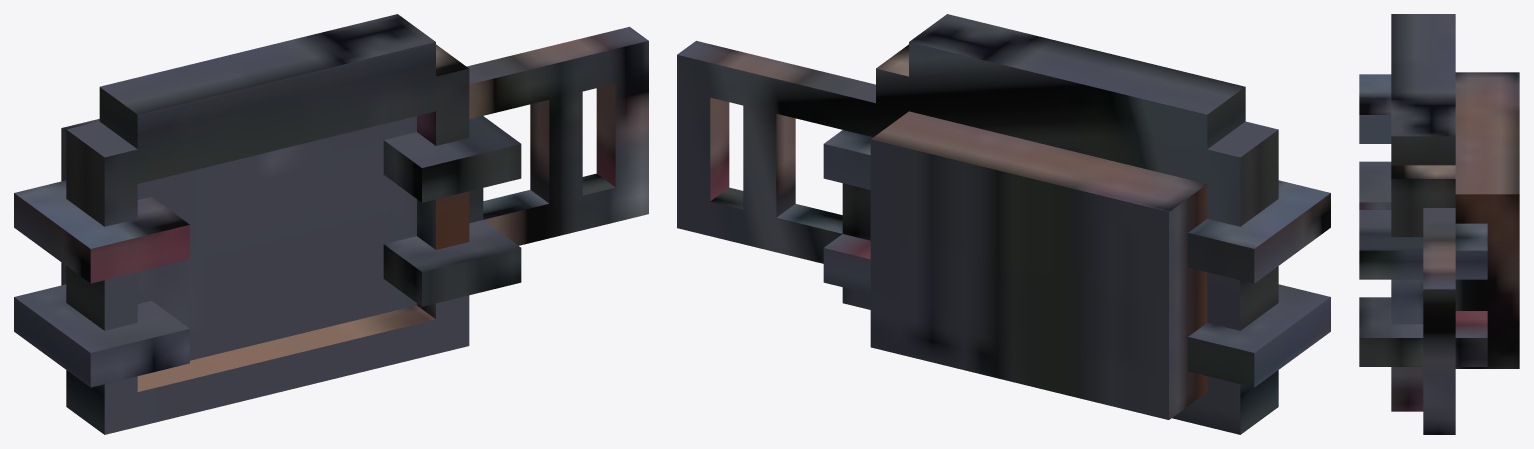
File: Advertising_7.glb
3 renders of one model, left to right at view 1: azimuth 30°, elevation 25°; view 2: azimuth 150°, elevation 25°; view 3: azimuth 270°, elevation 25°, orthographic. The views are drawn at different scales.
Parts seen in each view (by area): view 1: Advertising_7; view 2: Advertising_7; view 3: Advertising_7.
Boxes of the visible parts, x1,y1,x2,y2 form: Advertising_7: (14, 14, 648, 434); Advertising_7: (677, 14, 1330, 434); Advertising_7: (1359, 14, 1519, 434).
Bounding box in the file's own units: 1.8 × 0.9001 × 0.4999.
1 material, 1 textured.
